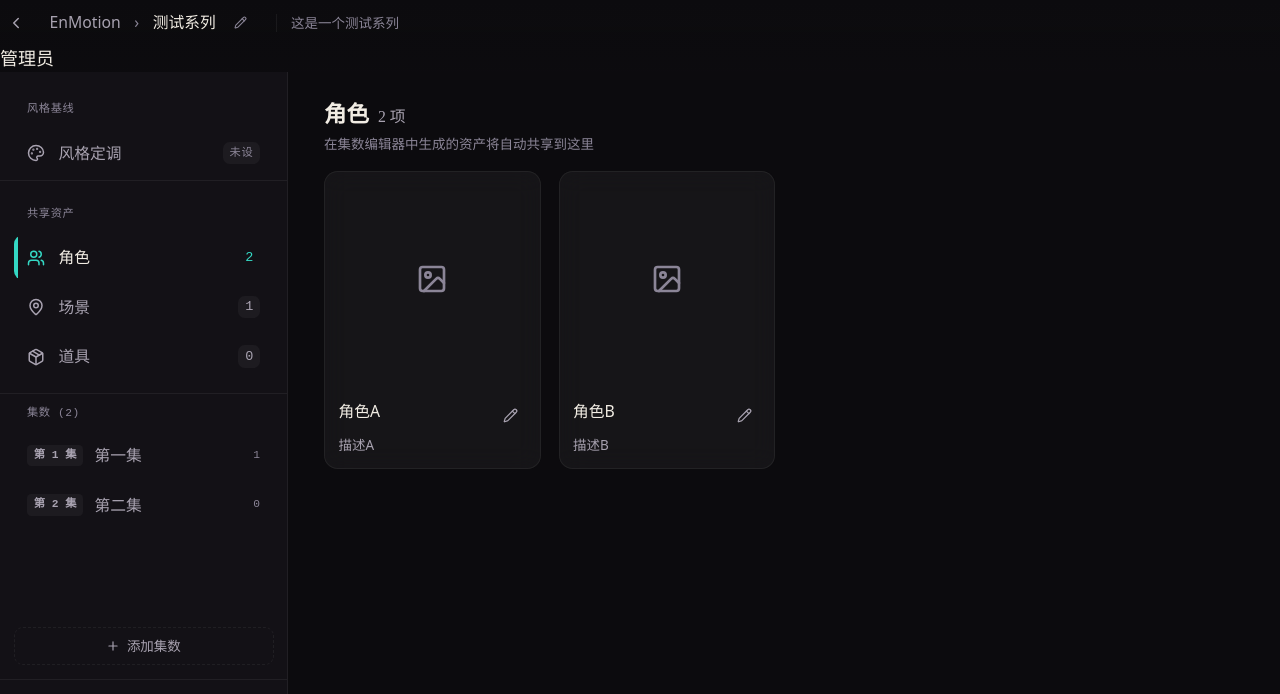
it: SeriesDetailPage › Editable content information › edits the series name and description through a visible action
Click the button named "编辑系列信息": [240, 22] box 222,4 -> 258,40
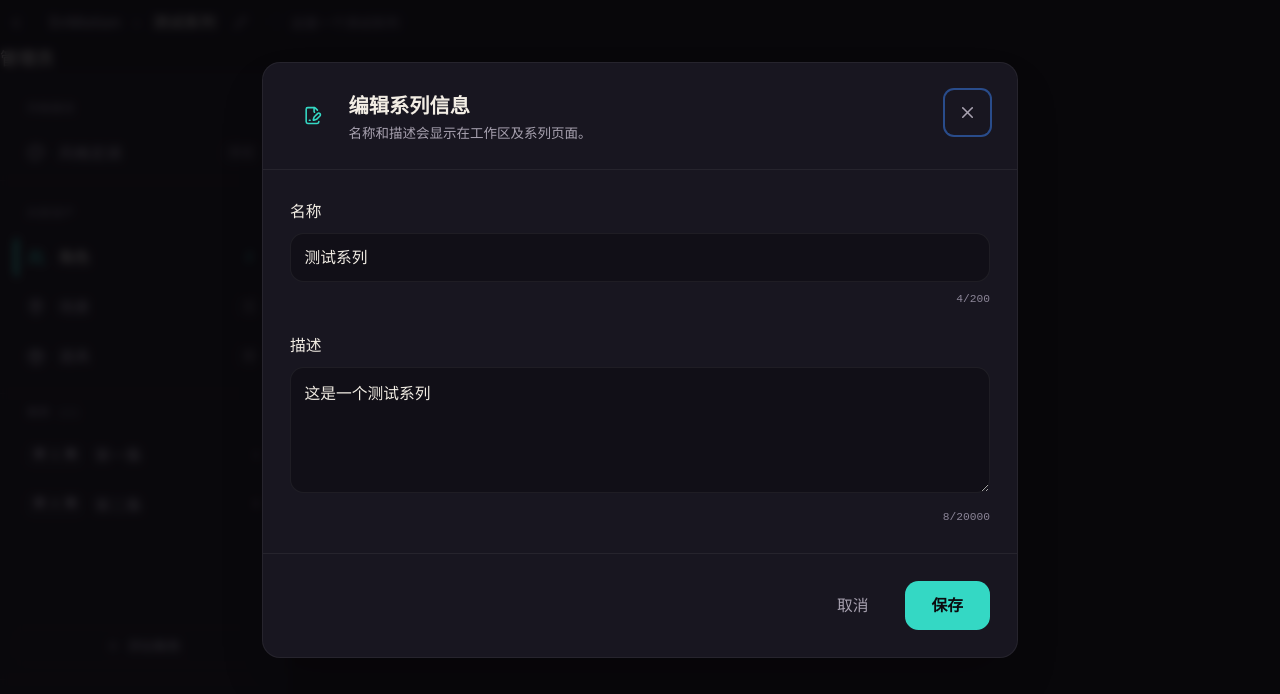
Replace the text in the field labelled "名称" with "新系列名称": [640, 258] box 290,233 -> 990,282
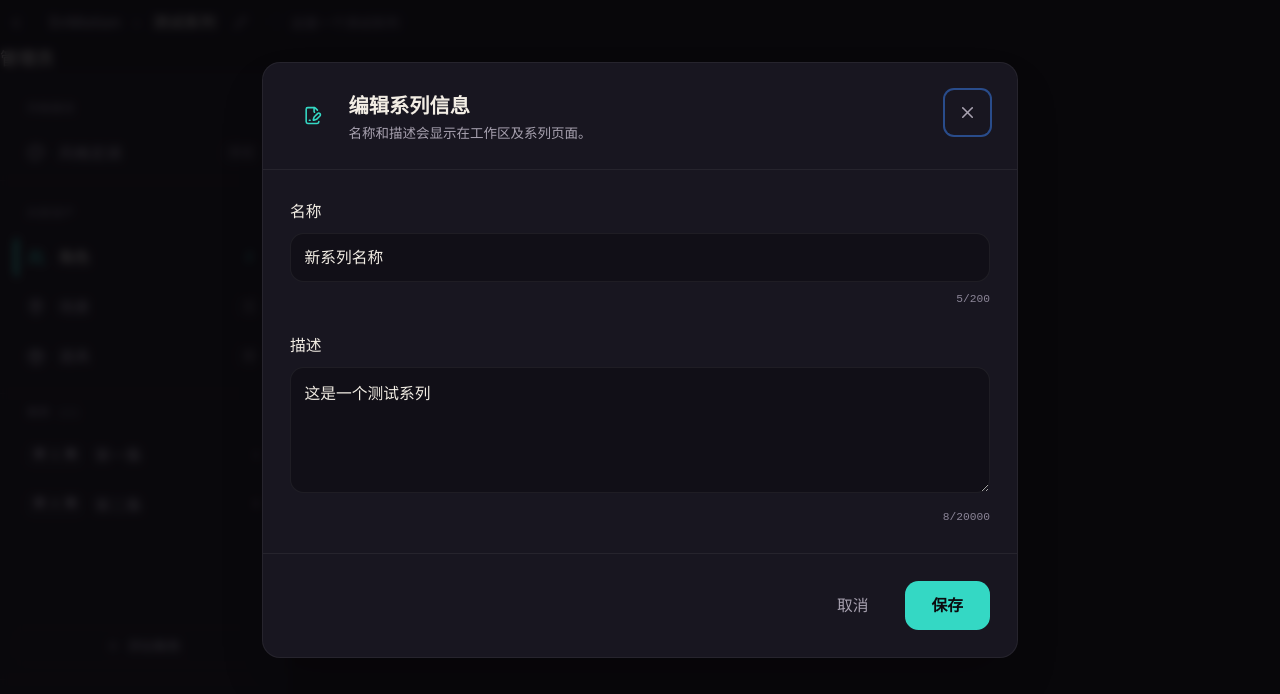
Replace the text in the text box labelled "描述" with "新的系列描述": [640, 430] box 290,367 -> 990,493
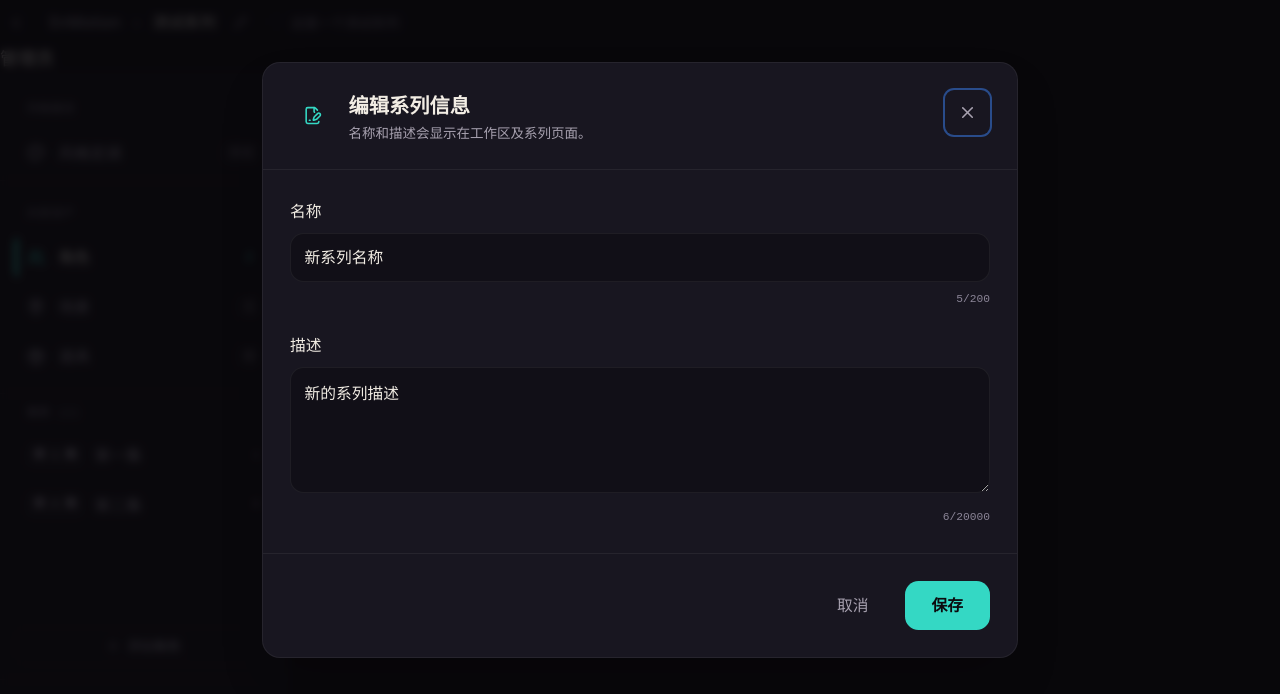
Click the button "保存": [947, 605] box 904,580 -> 990,630
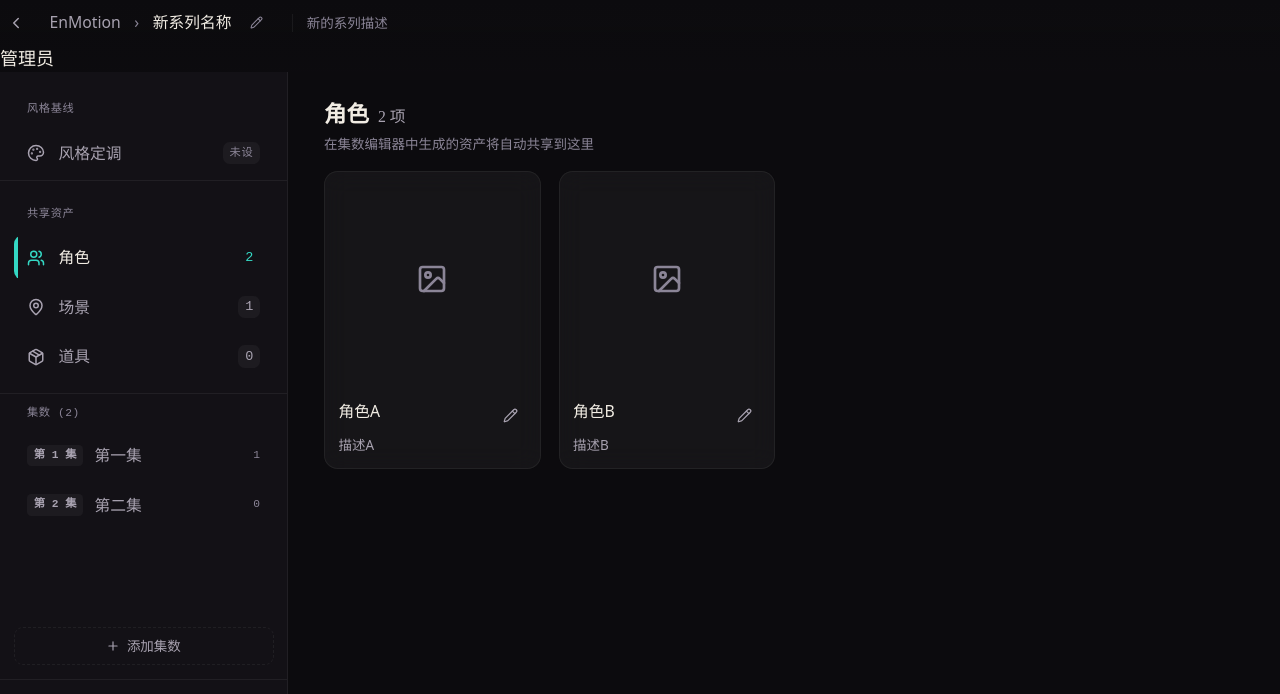
Expected: the text "新系列名称" is shown, 153,11 -> 232,34
